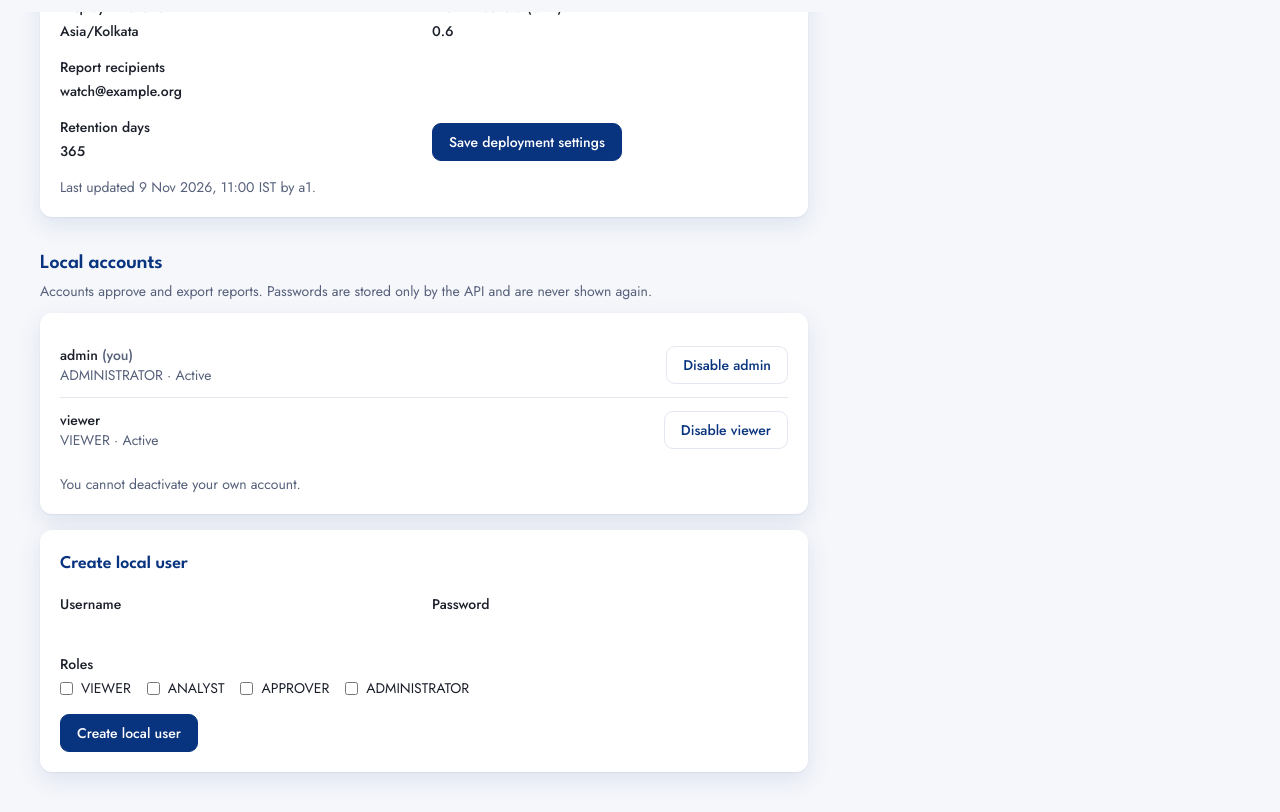
Operations page › activates and deactivates another local account
(page scrolled)
Click the button "Disable viewer".
click(726, 430)  # box left=664, top=411, right=788, bottom=449
(page scrolled)
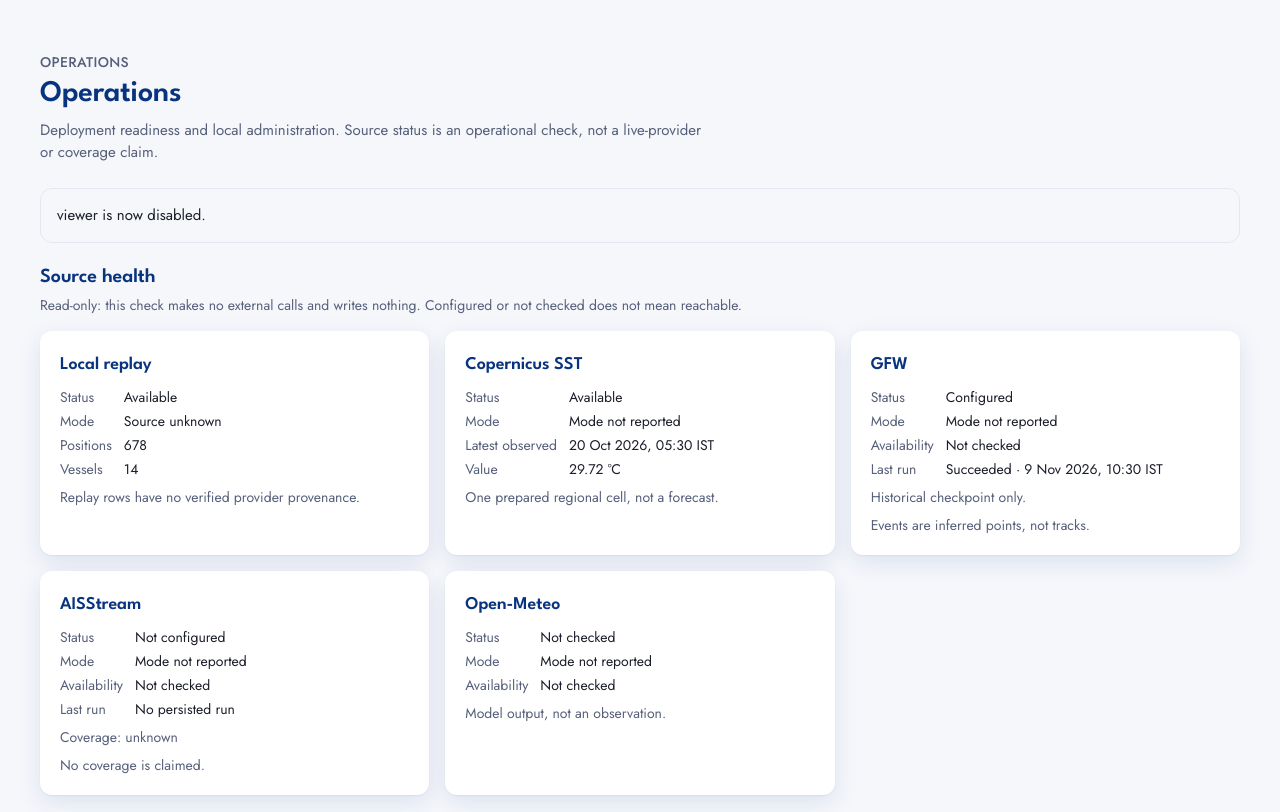
Expected: the text "viewer is now disabled." is shown, left=40, top=188, right=1240, bottom=243
